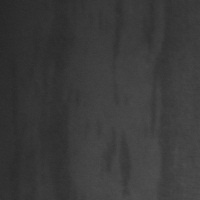inclusion: (36, 2, 80, 197), (151, 2, 192, 197), (104, 1, 132, 110), (6, 52, 26, 198), (105, 122, 137, 198)
